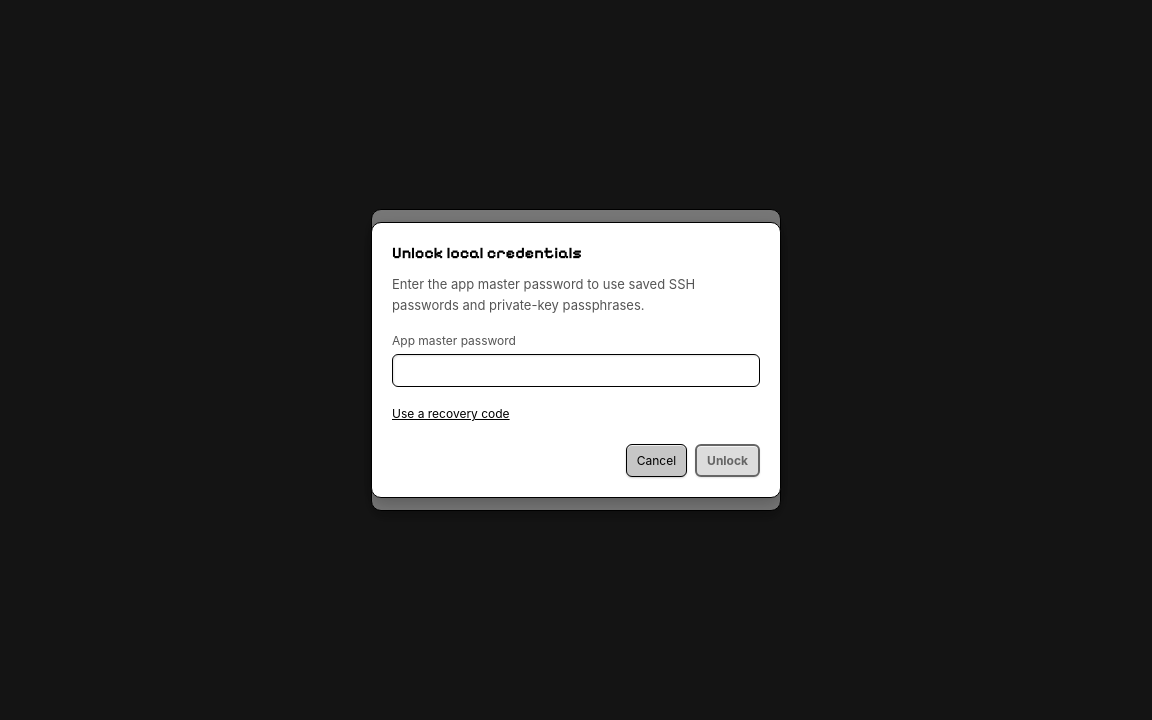
Test: translated component copy › translates recovery, setup, unlock, and recovery-mode credential forms
The image size is (1152, 720).
Click the button with test id "show-recovery" at (451, 414), box top-left (392, 399), bottom-right (510, 428)
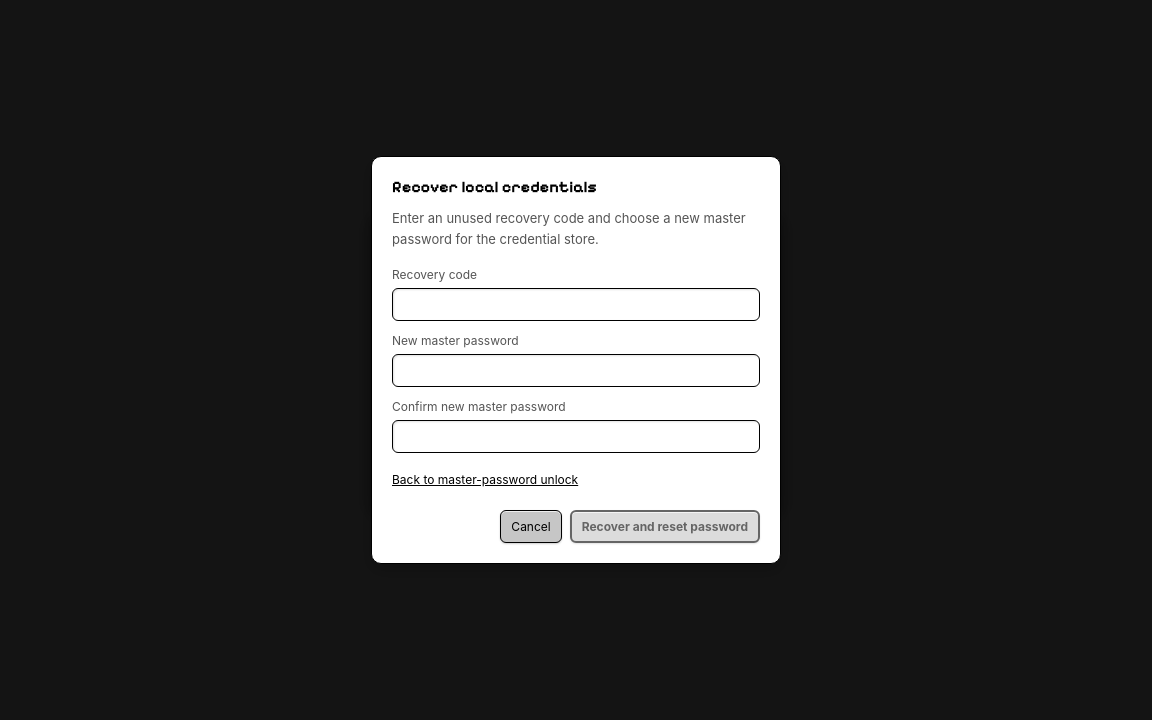
Check: the dialog shows "Recover local credentials", box top-left (392, 177), bottom-right (597, 196)
